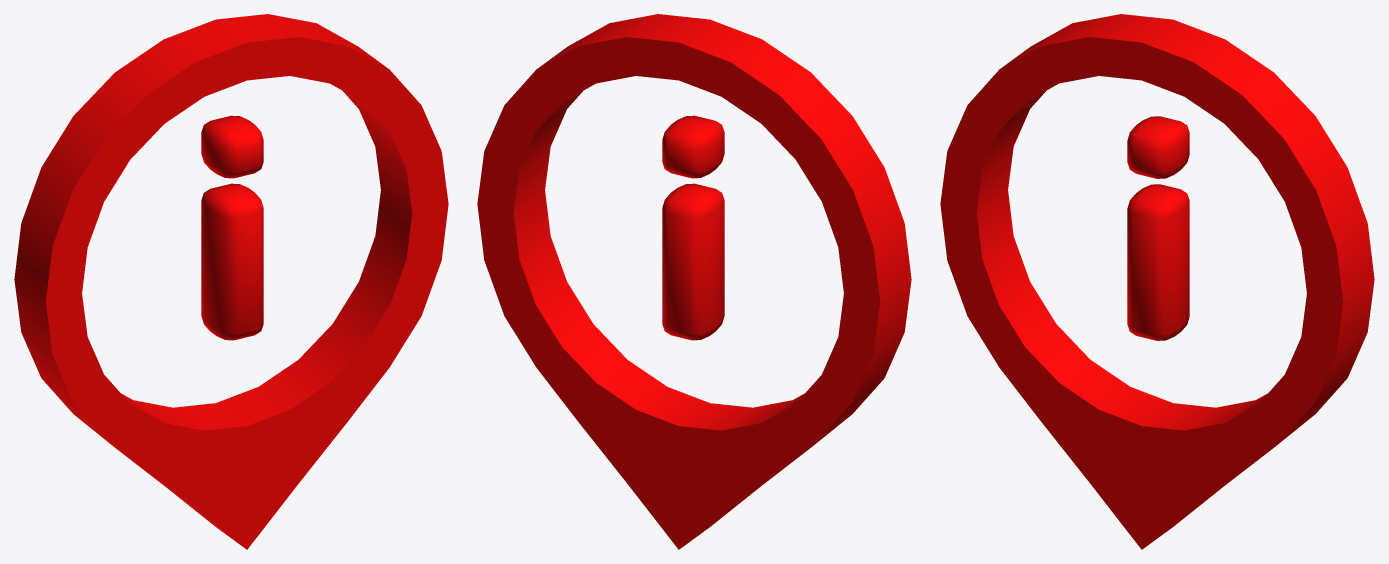
File: Sign.fbx
The picture shows the model from 3 angles, left to right: view 1: azimuth 30°, elevation 25°; view 2: azimuth 150°, elevation 25°; view 3: azimuth 330°, elevation 25°; orthographic projection.
Parts seen in each view (by area): view 1: Circle, Line, Dot; view 2: Circle, Line, Dot; view 3: Circle, Line, Dot.
Part boxes in pixels (bbox=[...]): Circle: bbox=[14, 14, 448, 549]; Line: bbox=[201, 183, 263, 340]; Dot: bbox=[201, 115, 263, 178]; Circle: bbox=[477, 14, 911, 549]; Line: bbox=[662, 183, 724, 340]; Dot: bbox=[662, 115, 724, 178]; Circle: bbox=[940, 14, 1374, 549]; Line: bbox=[1127, 184, 1189, 340]; Dot: bbox=[1127, 116, 1189, 178].
Bounding box in the file's own units: 7.77 × 9.35 × 1.05.
